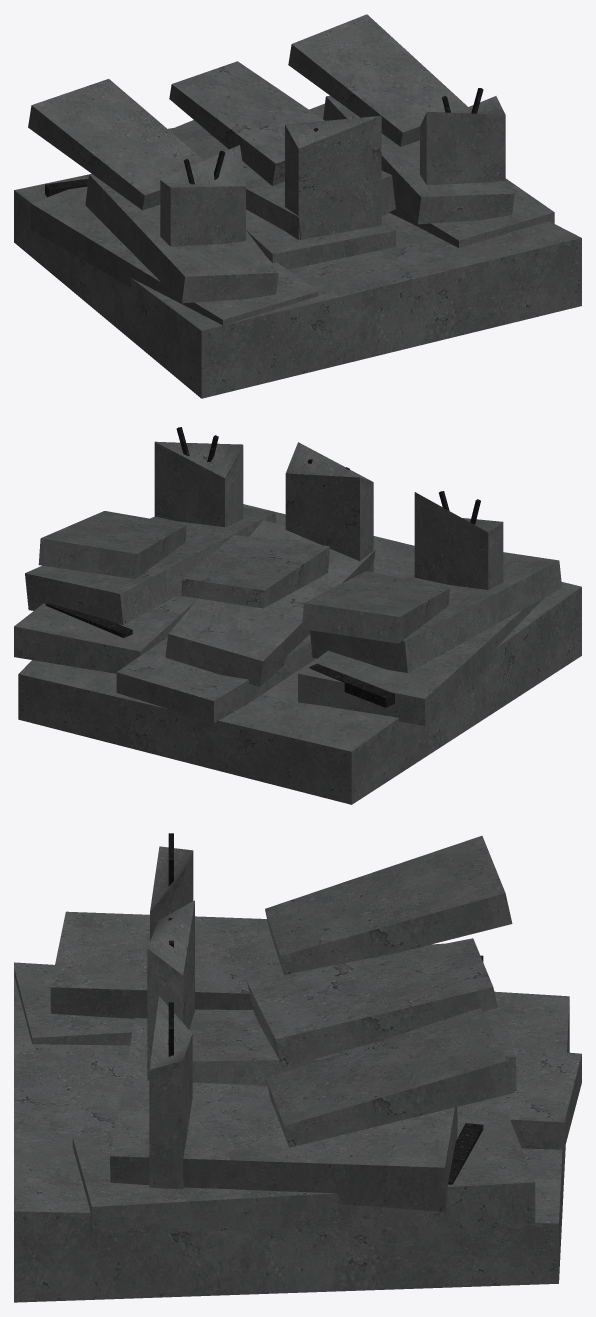
The model's file is city-shaft.glb.
The picture shows the model from 3 angles, top to bottom: view 1: azimuth 30°, elevation 25°; view 2: azimuth 150°, elevation 25°; view 3: azimuth 270°, elevation 25°; orthographic projection. The views are drawn at different scales.
Visible parts, largest first — view 1: city-shaft-concrete, city-shaft-steel; view 2: city-shaft-concrete, city-shaft-steel; view 3: city-shaft-concrete, city-shaft-steel.
Part boxes in pixels (x1=…): city-shaft-concrete: x1=14, y1=14, x2=581, y2=398; city-shaft-steel: x1=45, y1=88, x2=483, y2=197; city-shaft-concrete: x1=14, y1=441, x2=581, y2=804; city-shaft-steel: x1=45, y1=427, x2=480, y2=707; city-shaft-concrete: x1=14, y1=836, x2=581, y2=1302; city-shaft-steel: x1=168, y1=833, x2=483, y2=1184.
Size of the model in its own units: 5.11 by 2.35 by 4.74.
Materials: 2 (2 with a texture image).
